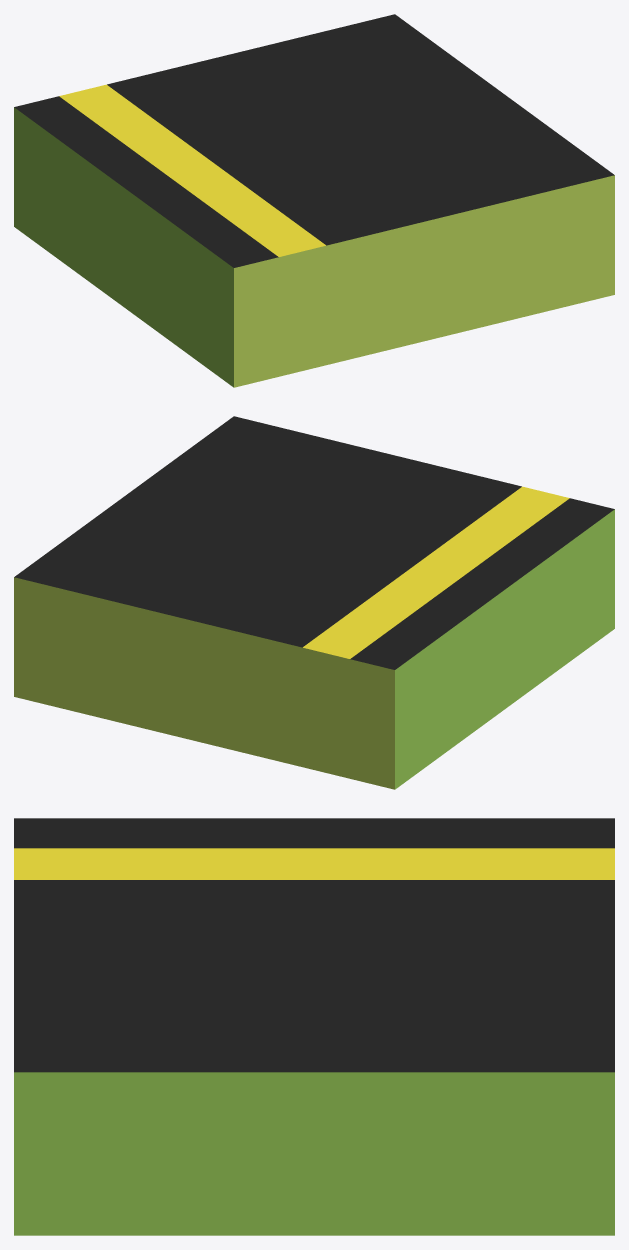
Rendered from floor_road5.fbx.
3 renders of one model, top to bottom at view 1: azimuth 30°, elevation 25°; view 2: azimuth 150°, elevation 25°; view 3: azimuth 270°, elevation 25°, orthographic. The views are drawn at different scales.
Visible parts, largest first — view 1: floor_road5; view 2: floor_road5; view 3: floor_road5.
Part boxes in pixels (x1=…): floor_road5: x1=14, y1=14, x2=614, y2=387; floor_road5: x1=14, y1=416, x2=614, y2=789; floor_road5: x1=14, y1=818, x2=614, y2=1235.
Bounding box in the file's own units: 100 × 30 × 100.
